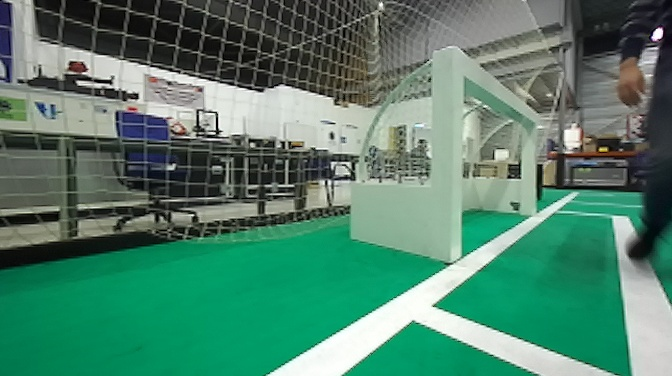goalpost: (431, 46, 474, 266), (518, 109, 542, 228)
human: (614, 1, 668, 282)
